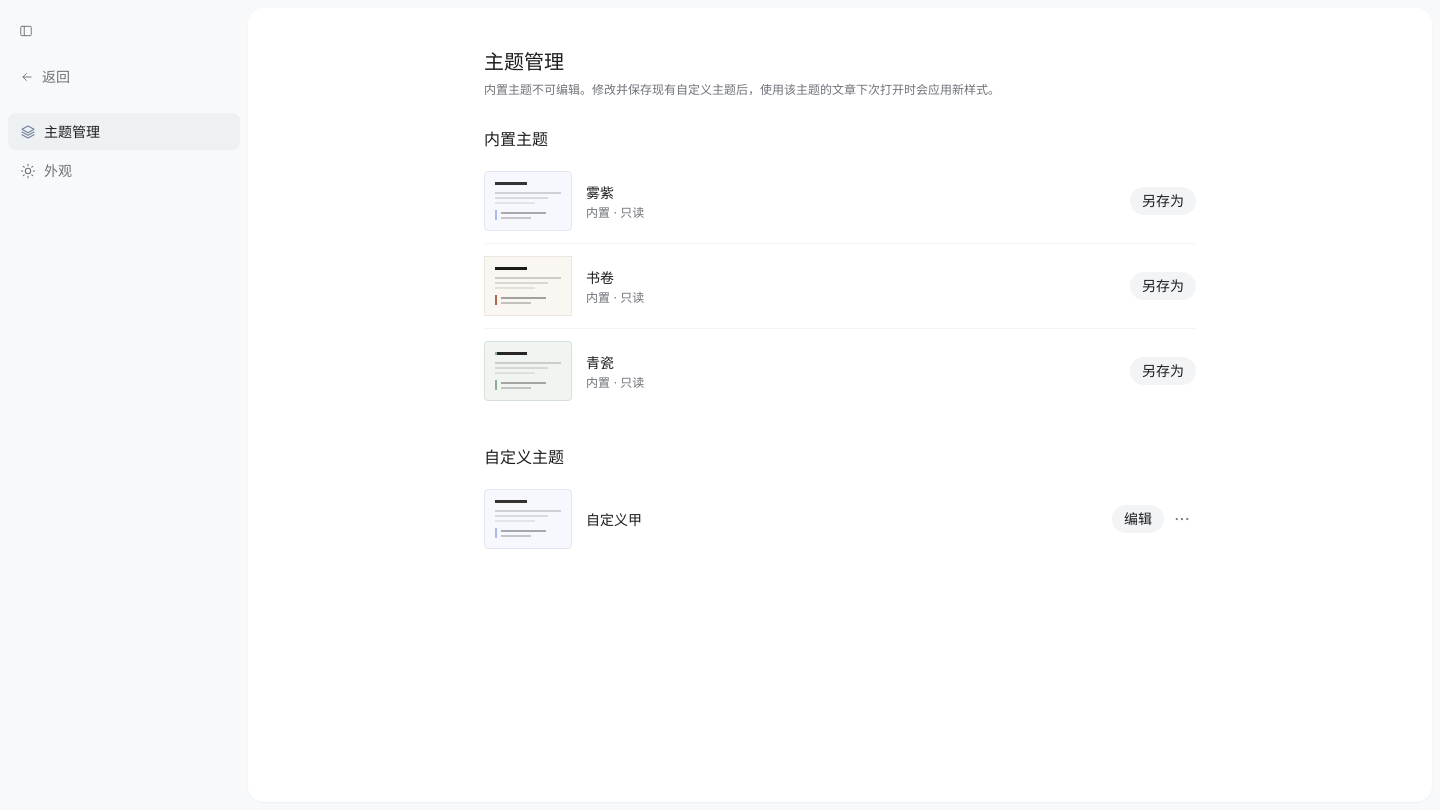
Test: 主题列表 › 删除失败时展示清理后的错误
Check: the text "自定义甲" is shown, box top-left (586, 511), bottom-right (642, 528)
Click the button named "更多操作". click: (1182, 519)
box: top-left (1168, 505), bottom-right (1196, 533)
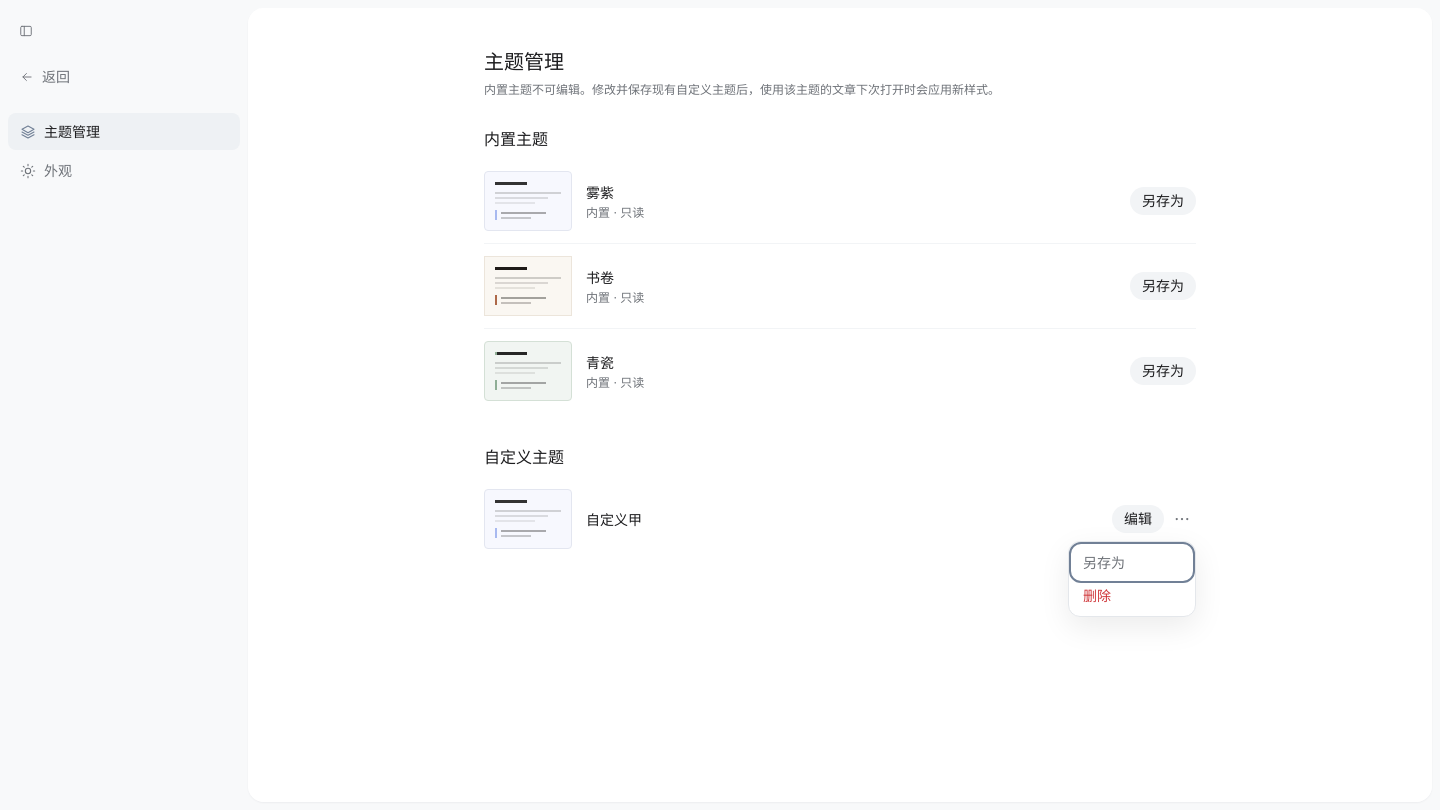
Click the menu item "删除". click: (1132, 596)
box: top-left (1073, 579), bottom-right (1191, 612)
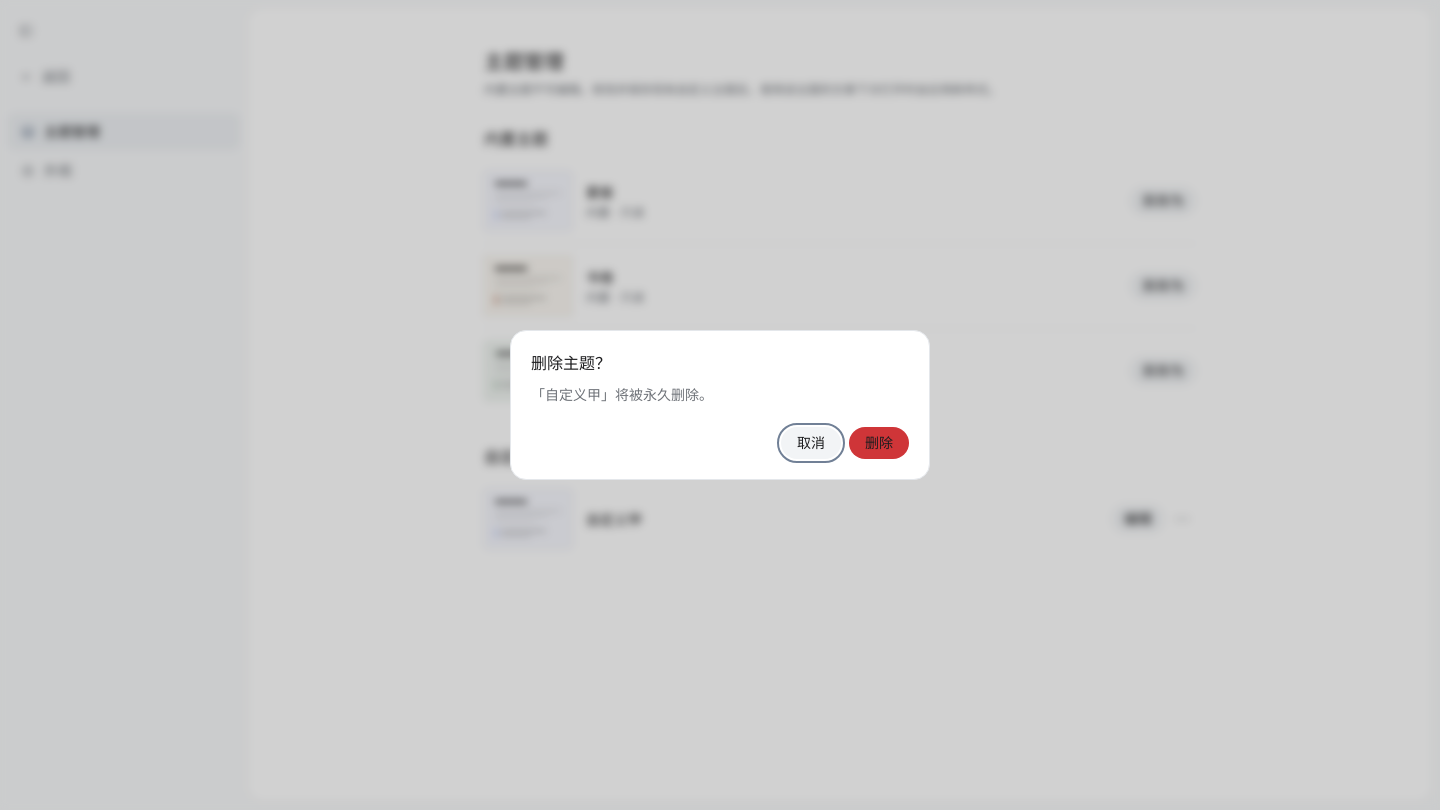
Click the button "删除". click: (879, 443)
box: top-left (849, 427), bottom-right (909, 459)
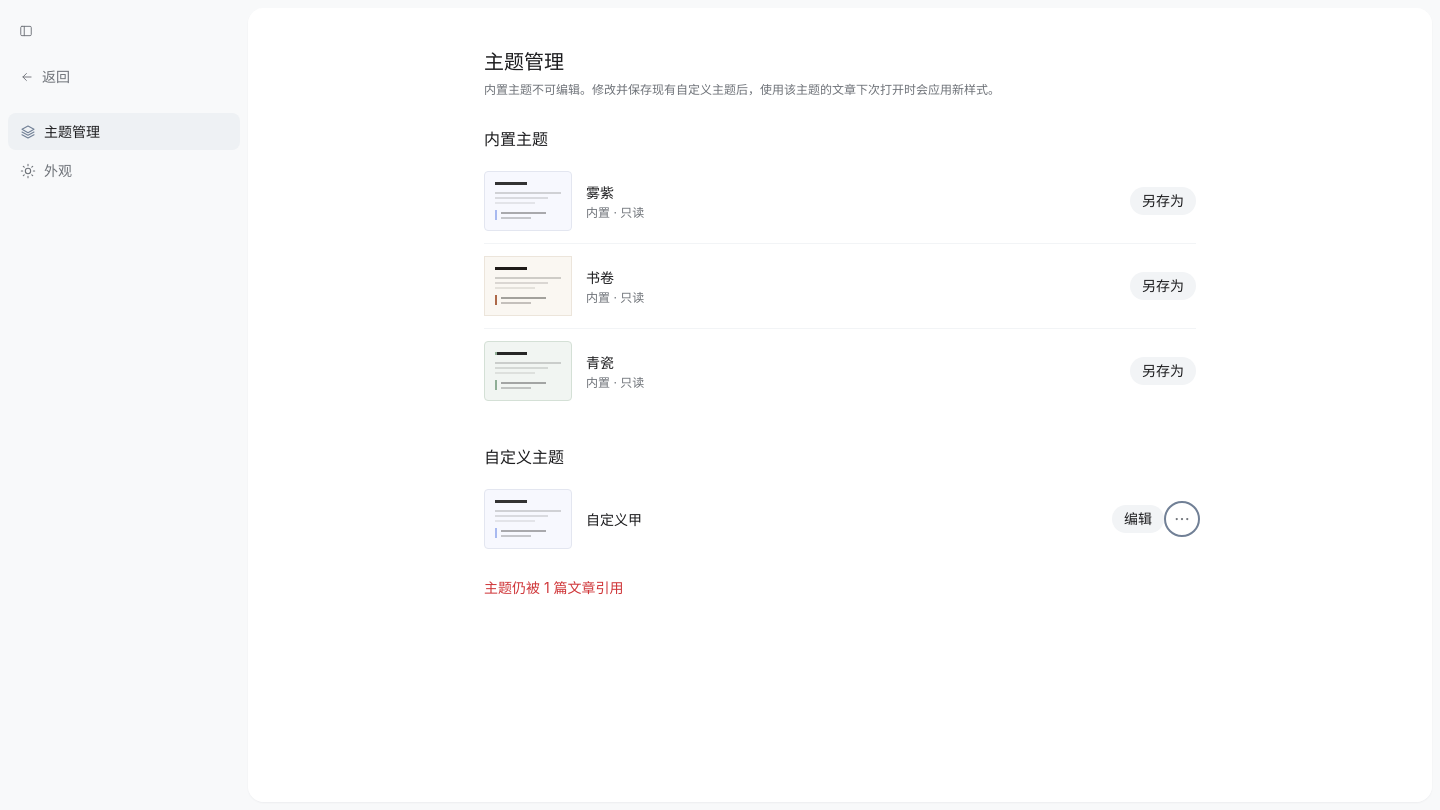
Check: the text "主题仍被 1 篇文章引用" is shown, box top-left (484, 579), bottom-right (624, 596)
